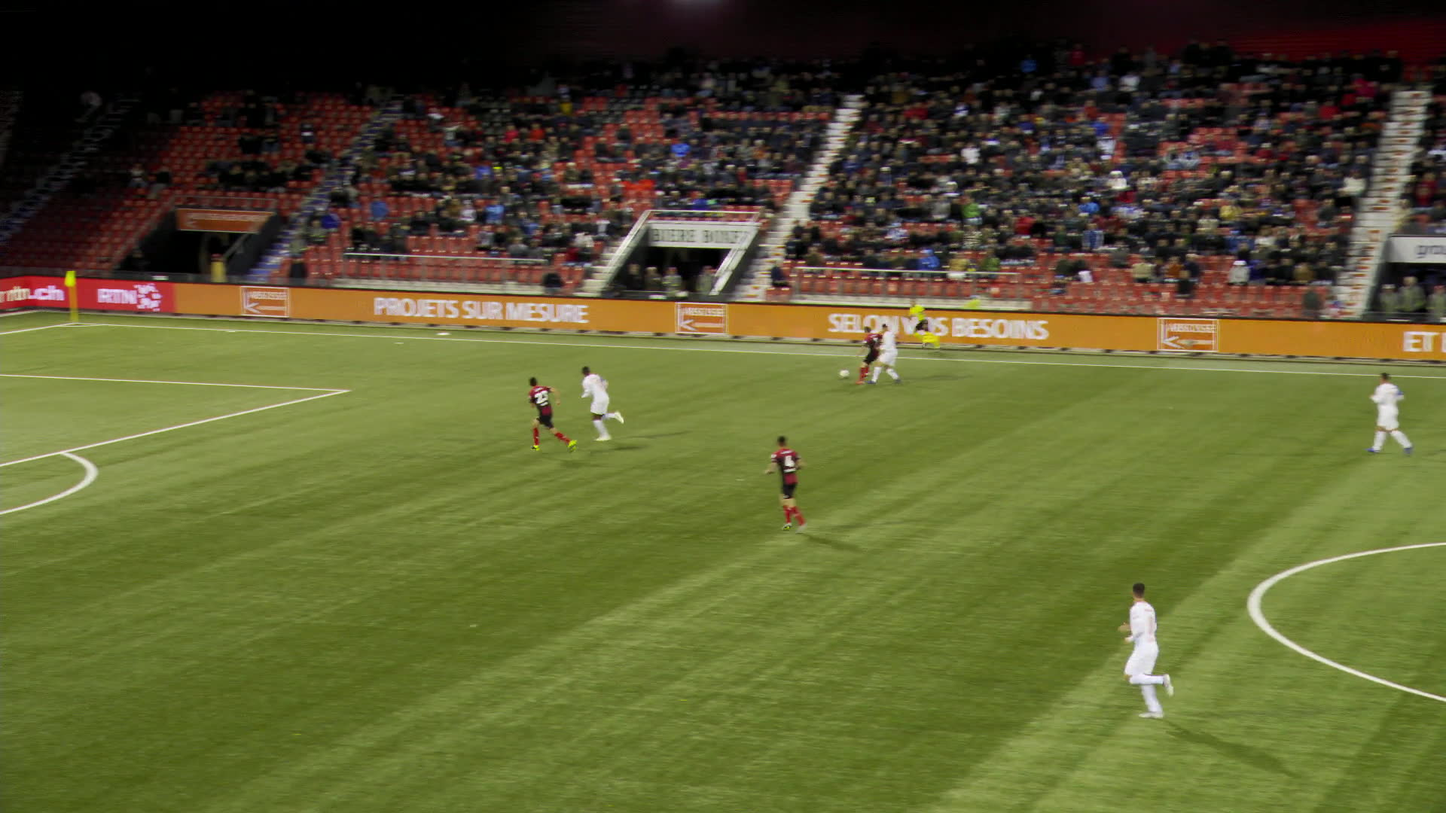ball: (840, 369, 849, 377)
player: (1117, 583, 1174, 718), (763, 435, 807, 533), (1365, 373, 1414, 455), (528, 376, 576, 453), (578, 365, 623, 440), (1412, 336, 1445, 413), (865, 323, 901, 384), (854, 325, 882, 384)
referee: (904, 299, 941, 352)
